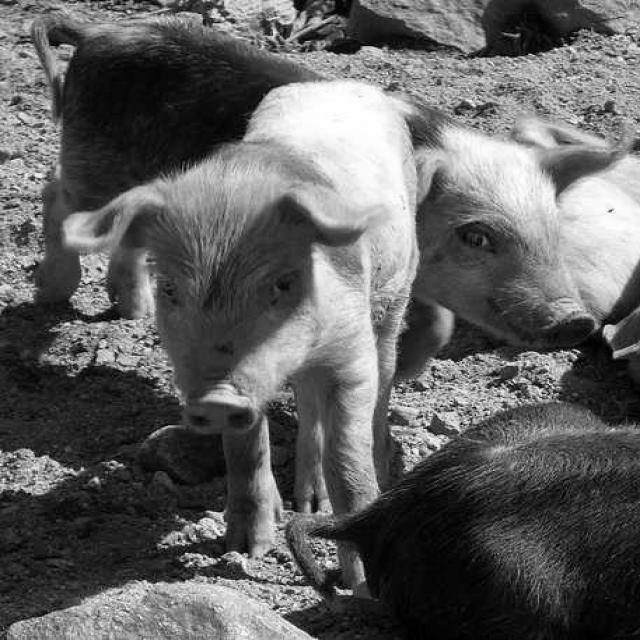boar: (62, 81, 416, 553), (286, 402, 637, 637), (32, 13, 316, 301), (399, 103, 640, 378), (111, 239, 150, 315)
